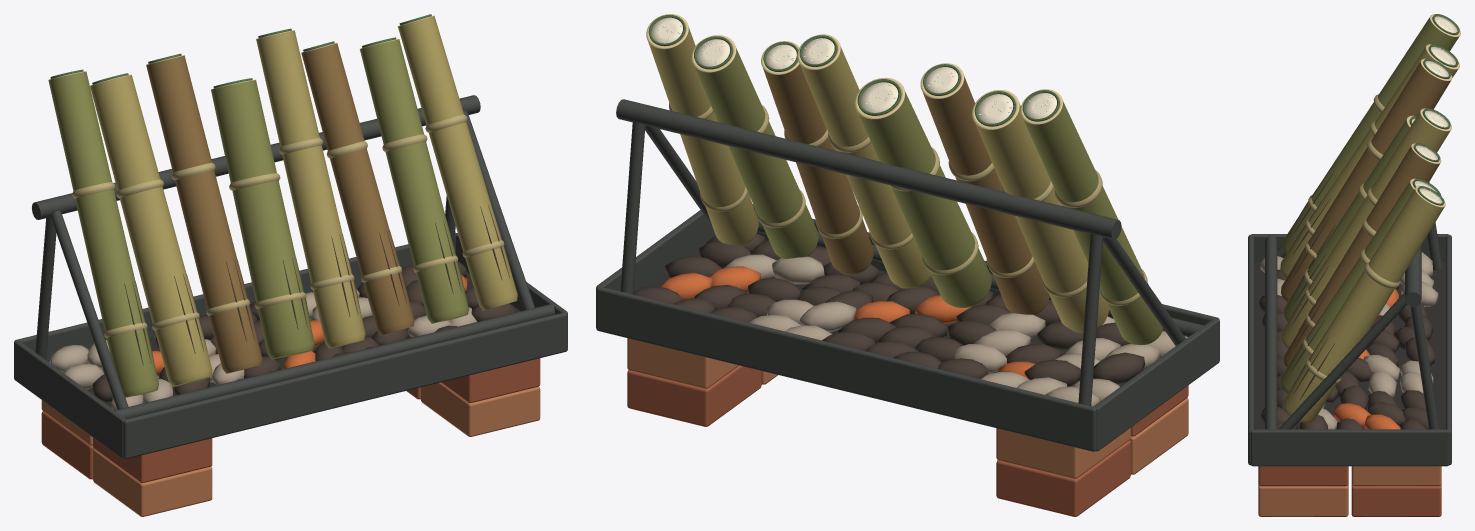
3 views of the same model, side by side, from view 1: azimuth 30°, elevation 25°; view 2: azimuth 150°, elevation 25°; view 3: azimuth 270°, elevation 25° (orthographic). The views are drawn at different scales.
Parts seen in each view (by area): view 1: Lemang, Charcoal brazier, Brick piers, Roasting rail, Coals, Rice and leaf; view 2: Lemang, Coals, Charcoal brazier, Brick piers, Roasting rail, Rice and leaf; view 3: Lemang, Charcoal brazier, Coals, Brick piers, Roasting rail, Rice and leaf.
Boxes of the visible parts, <box> form: Lemang: <box>48,16,517,397</box>; Charcoal brazier: <box>14,232,567,458</box>; Brick piers: <box>41,358,540,516</box>; Roasting rail: <box>32,95,554,418</box>; Coals: <box>49,262,514,410</box>; Rice and leaf: <box>48,14,434,89</box>; Lemang: <box>648,27,1162,344</box>; Coals: <box>633,233,1187,406</box>; Charcoal brazier: <box>596,204,1219,451</box>; Brick piers: <box>627,338,1188,516</box>; Roasting rail: <box>616,99,1204,405</box>; Rice and leaf: <box>646,14,1062,129</box>; Lemang: <box>1280,17,1458,423</box>; Charcoal brazier: <box>1248,234,1451,466</box>; Coals: <box>1259,252,1438,429</box>; Brick piers: <box>1258,466,1441,516</box>; Roasting rail: <box>1265,182,1442,429</box>; Rice and leaf: <box>1406,14,1460,207</box>.
Bounding box in the file's own units: 1.08 × 0.852 × 0.4884.
